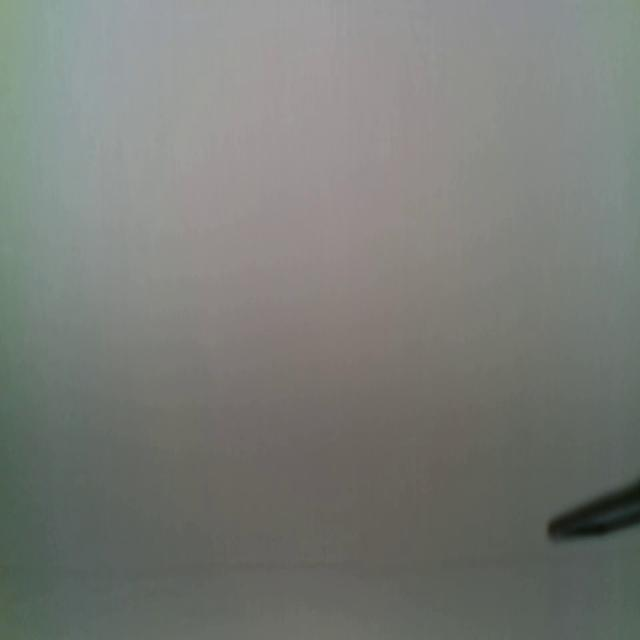color bleeding: (0, 544, 640, 584)
